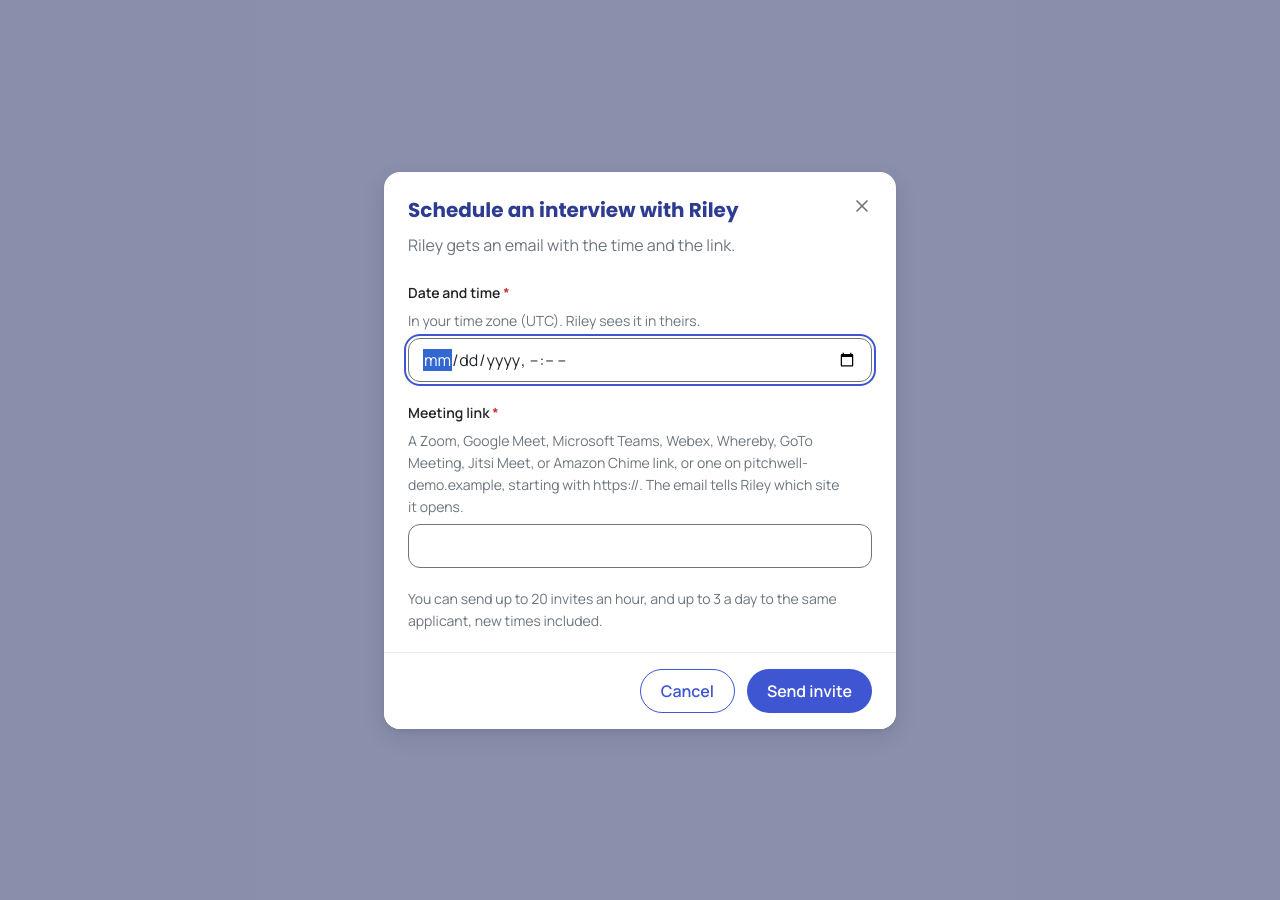
Test: InterviewDialog › refuses a time that has already passed
Type "2026-10-20T09:00" into the field labelled "Date and time *" at [640, 360], box [408,338,872,382]
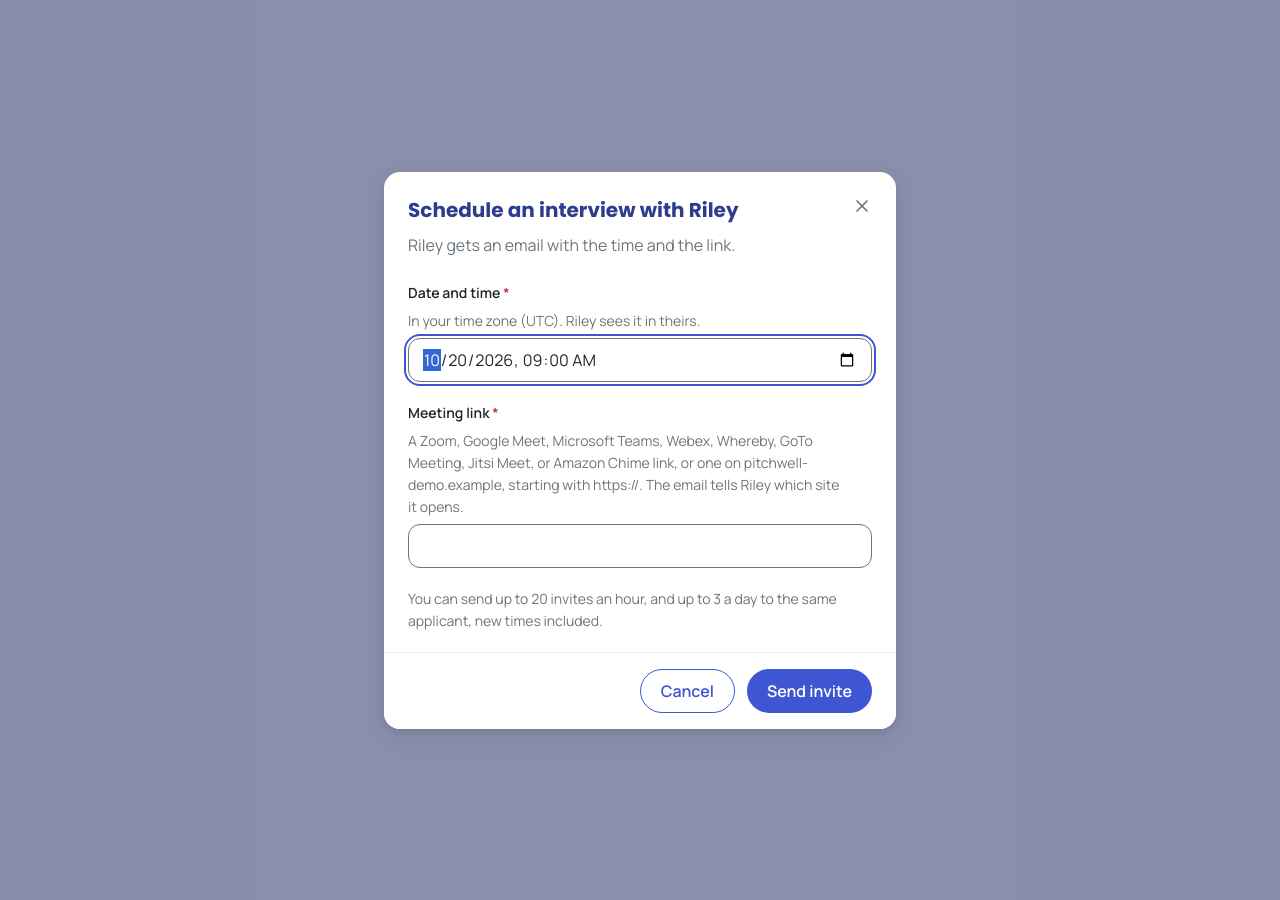
Type "https://meet.example.test/riley" into the field labelled "Meeting link *" at [640, 546], box [408,524,872,568]
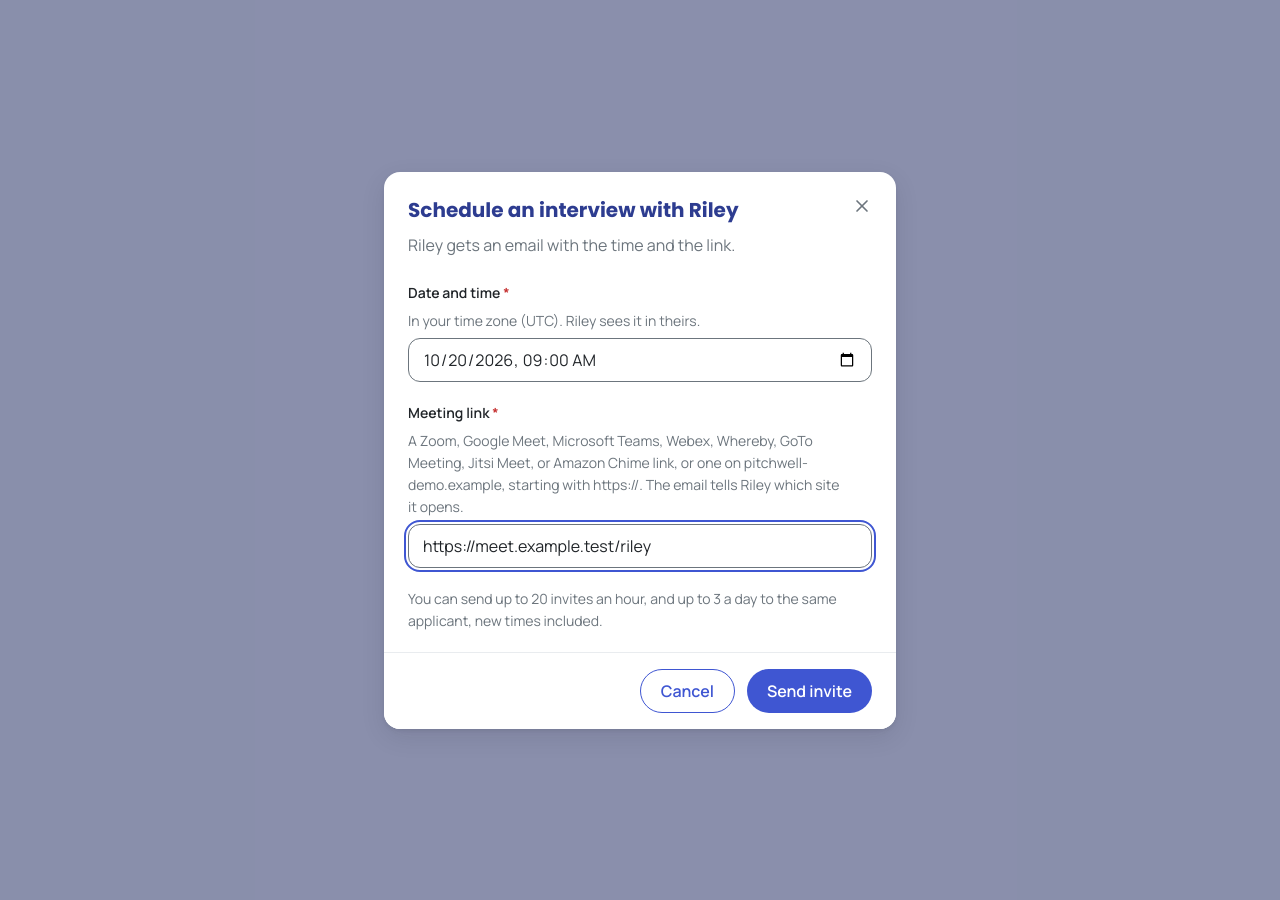
Click the button "Send invite" at [809, 690], box [747,668,872,712]
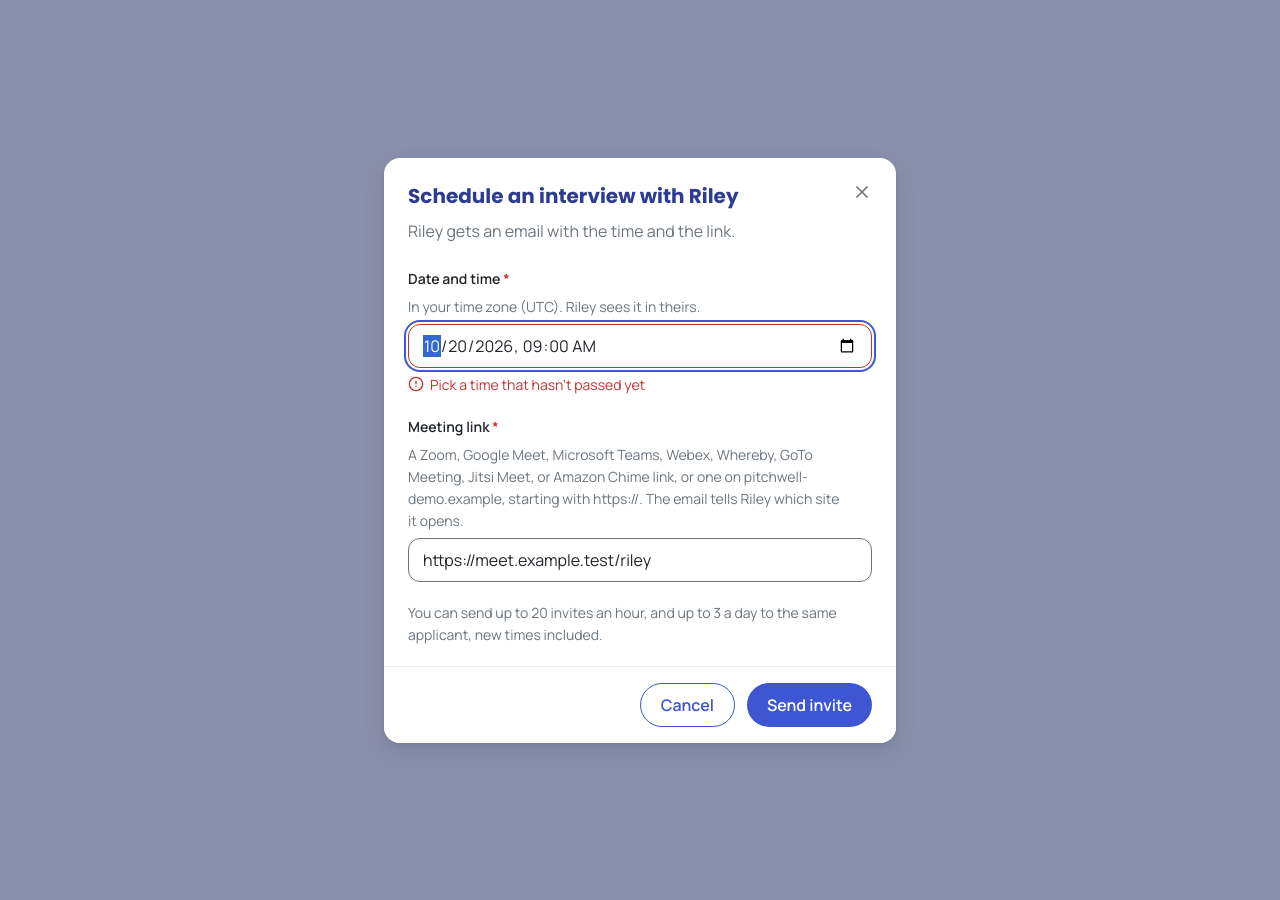
Check: the text "Pick a time that hasn’t passed yet" is shown, box [430,374,645,396]
